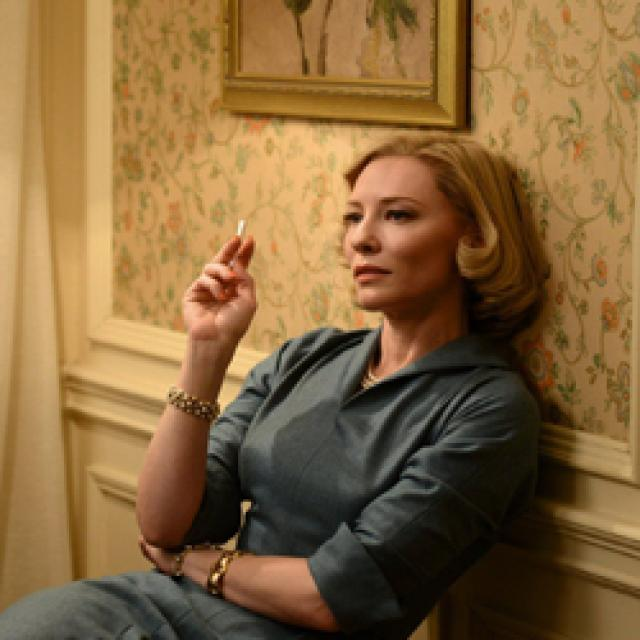Smooking: (228, 212, 255, 237)
